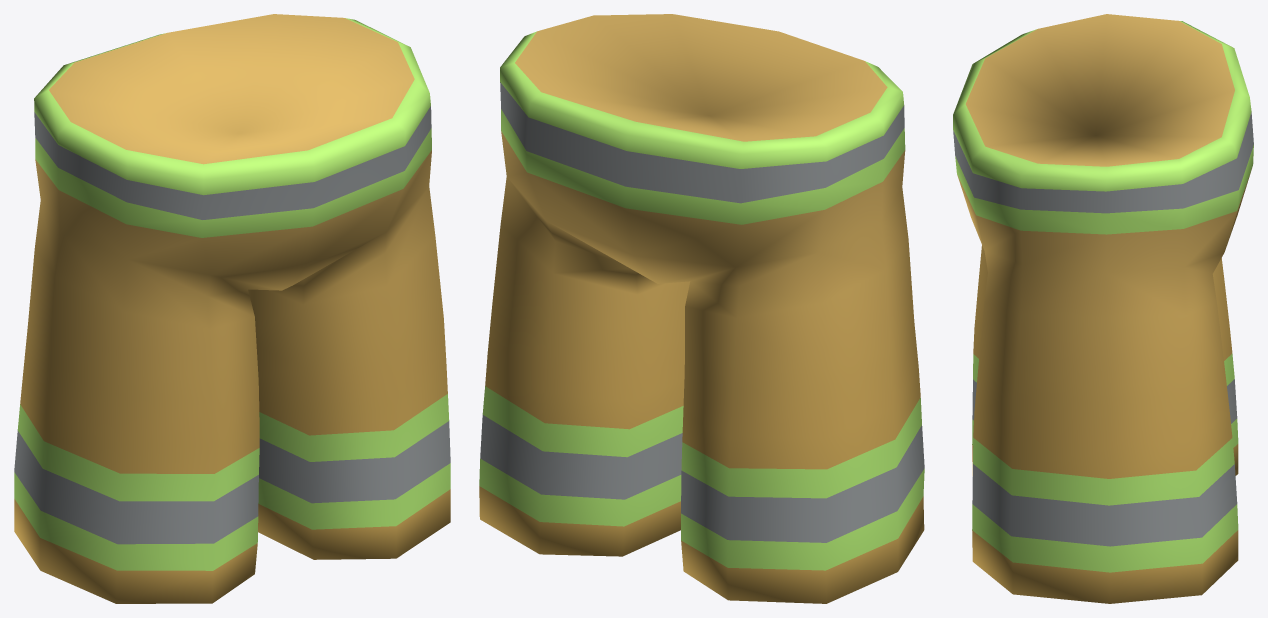
File: Bottom_34.fbx
3 views of the same model, side by side, from view 1: azimuth 30°, elevation 25°; view 2: azimuth 150°, elevation 25°; view 3: azimuth 270°, elevation 25° (orthographic). The views are drawn at different scales.
Parts seen in each view (by area): view 1: Bottom_34; view 2: Bottom_34; view 3: Bottom_34.
Boxes of the visible parts, <box> form: Bottom_34: <box>14,14,450,603</box>; Bottom_34: <box>479,14,924,603</box>; Bottom_34: <box>953,14,1253,603</box>.
Bounding box in the file's own units: 42.07 × 47.57 × 29.76.
